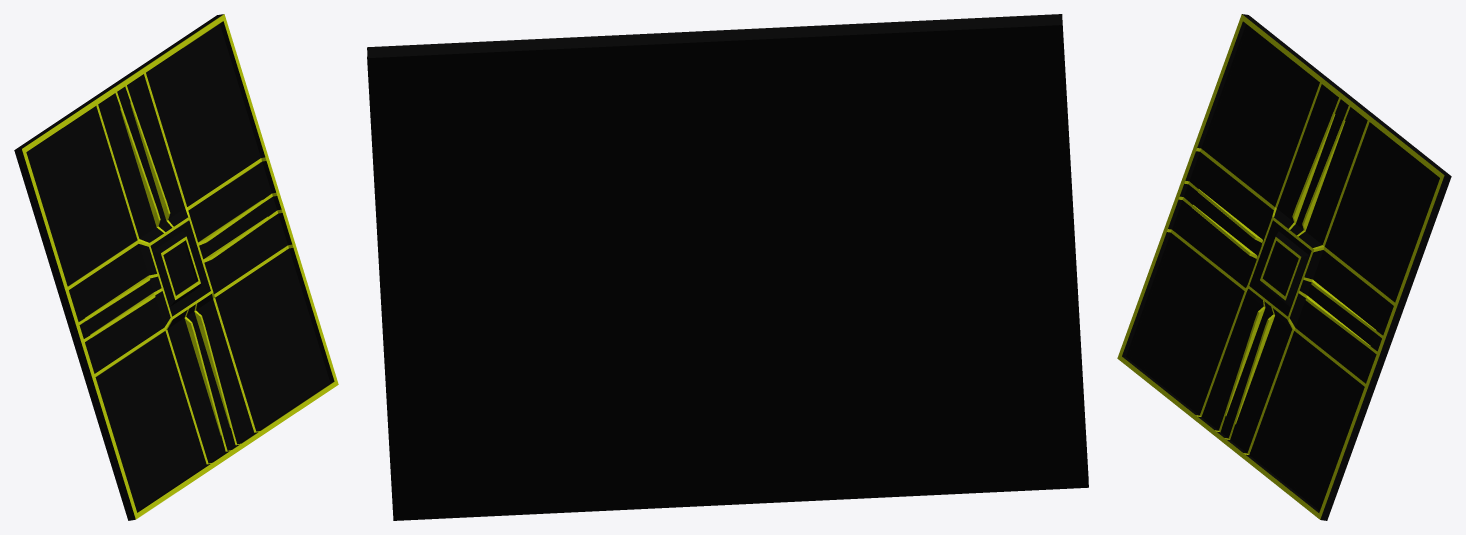
File: deathStar1.obj
3 views of the same model, side by side, from view 1: azimuth 30°, elevation 25°; view 2: azimuth 150°, elevation 25°; view 3: azimuth 270°, elevation 25° (orthographic). The views are drawn at different scales.
Parts seen in each view (by area): view 1: Box001_Untitled; view 2: Box001_Untitled; view 3: Box001_Untitled.
Part boxes in pixels (x1=…): Box001_Untitled: x1=14, y1=14, x2=338, y2=520; Box001_Untitled: x1=367, y1=14, x2=1088, y2=520; Box001_Untitled: x1=1117, y1=14, x2=1451, y2=520.
Size of the model in its own units: 3.93 by 3.69 by 3.28.
